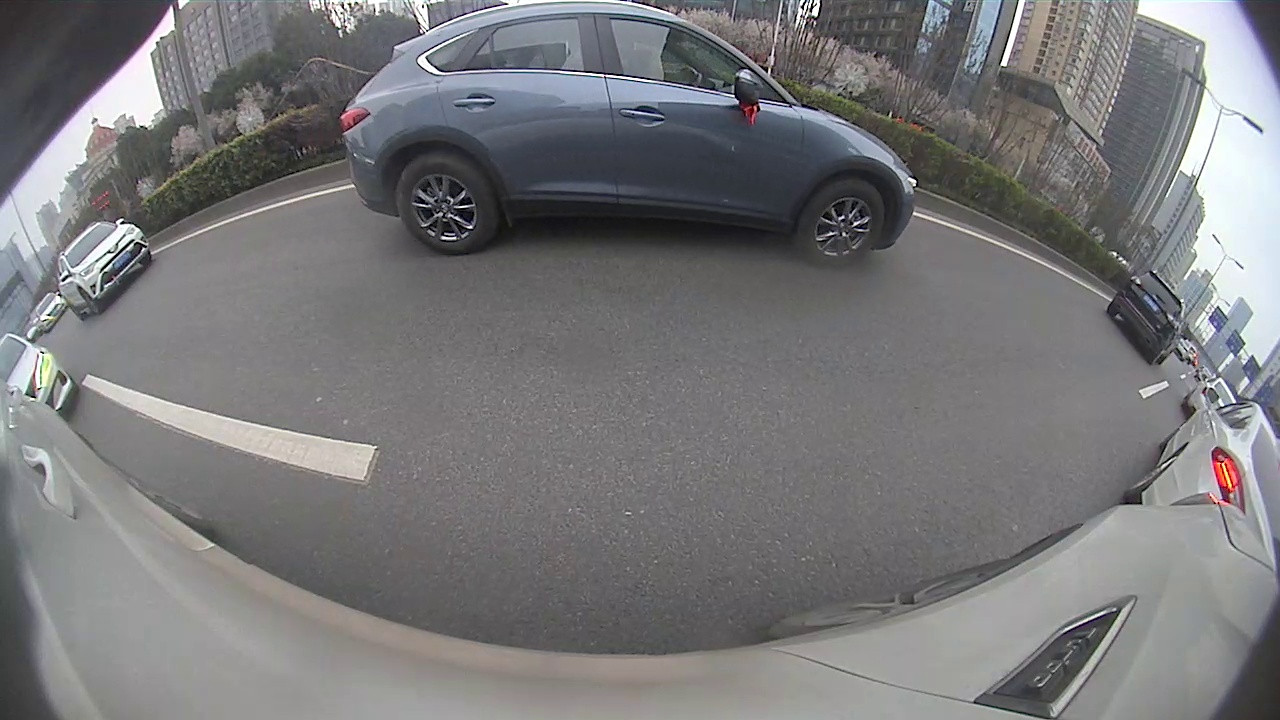car: (338, 1, 920, 272), (1118, 386, 1279, 574), (53, 218, 151, 323), (1106, 268, 1191, 366)
front: (796, 180, 885, 263)
rear: (396, 157, 495, 252)
